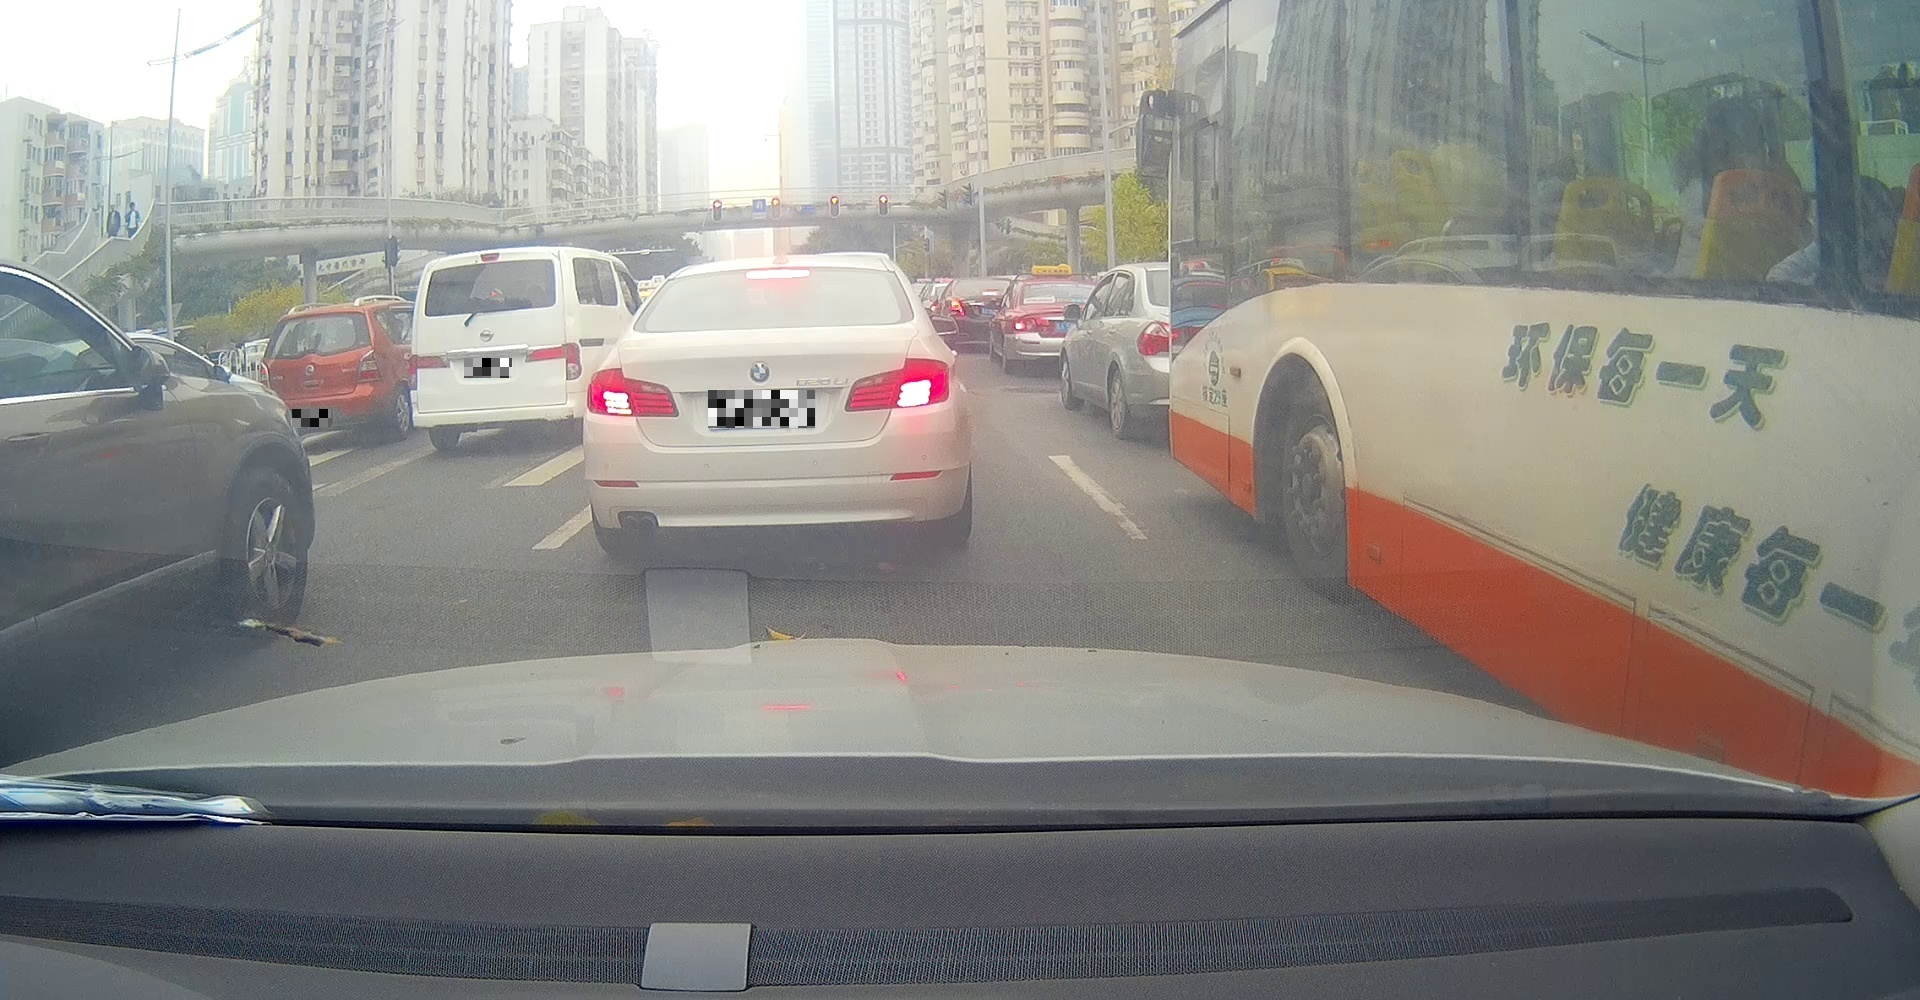L_light: (585, 368, 679, 418), (408, 354, 450, 390), (259, 360, 272, 391)
R_light: (843, 357, 949, 411), (524, 341, 582, 381), (357, 346, 383, 385)
T_light: (747, 268, 810, 280), (481, 253, 500, 261), (307, 315, 328, 319)
day-brake: (583, 253, 971, 555)
day-no: (408, 246, 583, 451), (257, 302, 389, 445)
plate_1: (292, 409, 331, 426)
plate_2: (463, 358, 512, 378)
plate_3: (709, 390, 815, 428)
